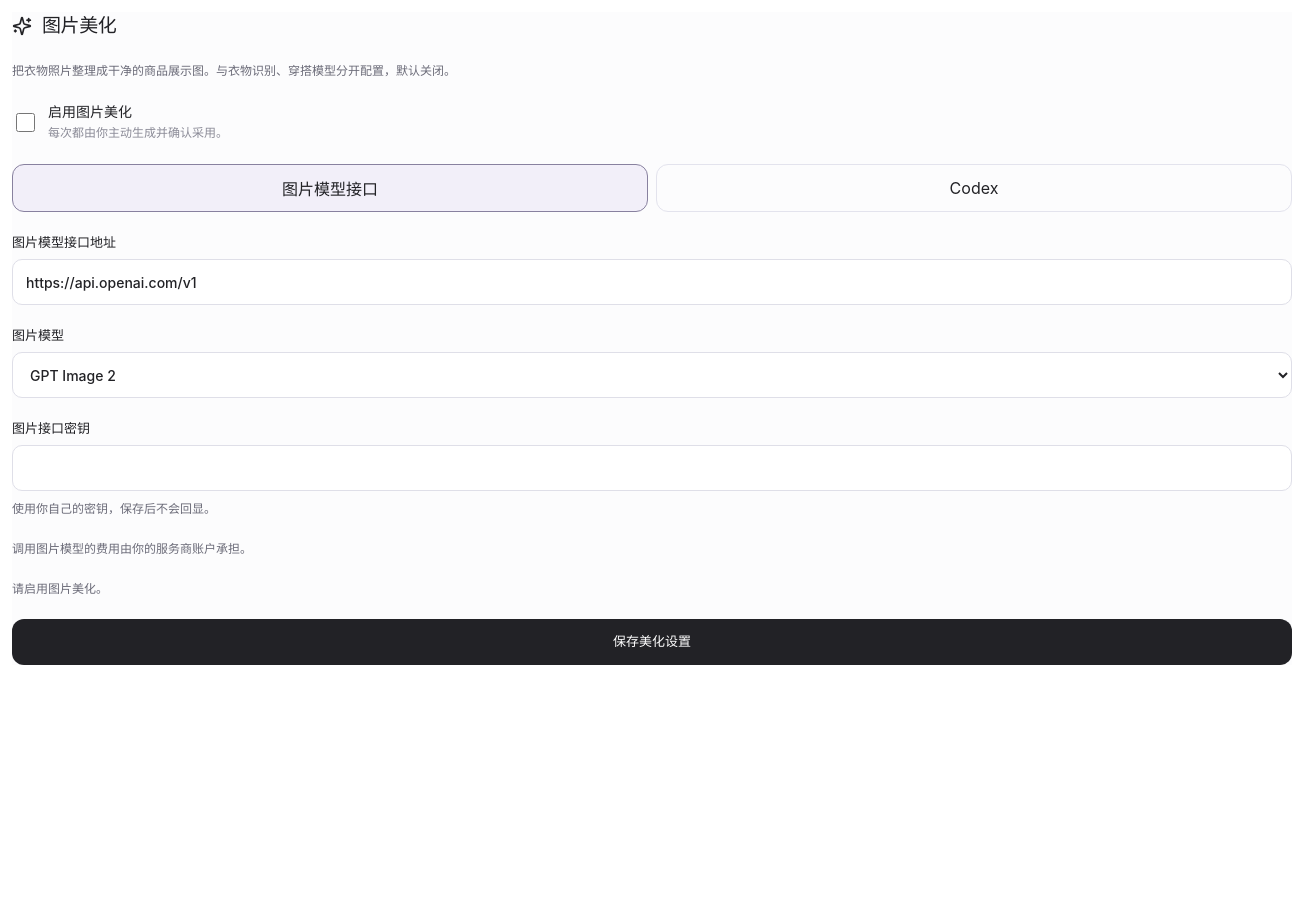
keeps an unsaved image API key available to retry after a settings error
Click the checkbox labelled "启用图片美化 每次都由你主动生成并确认采用。": (26, 122) left=16, top=113, right=35, bottom=132
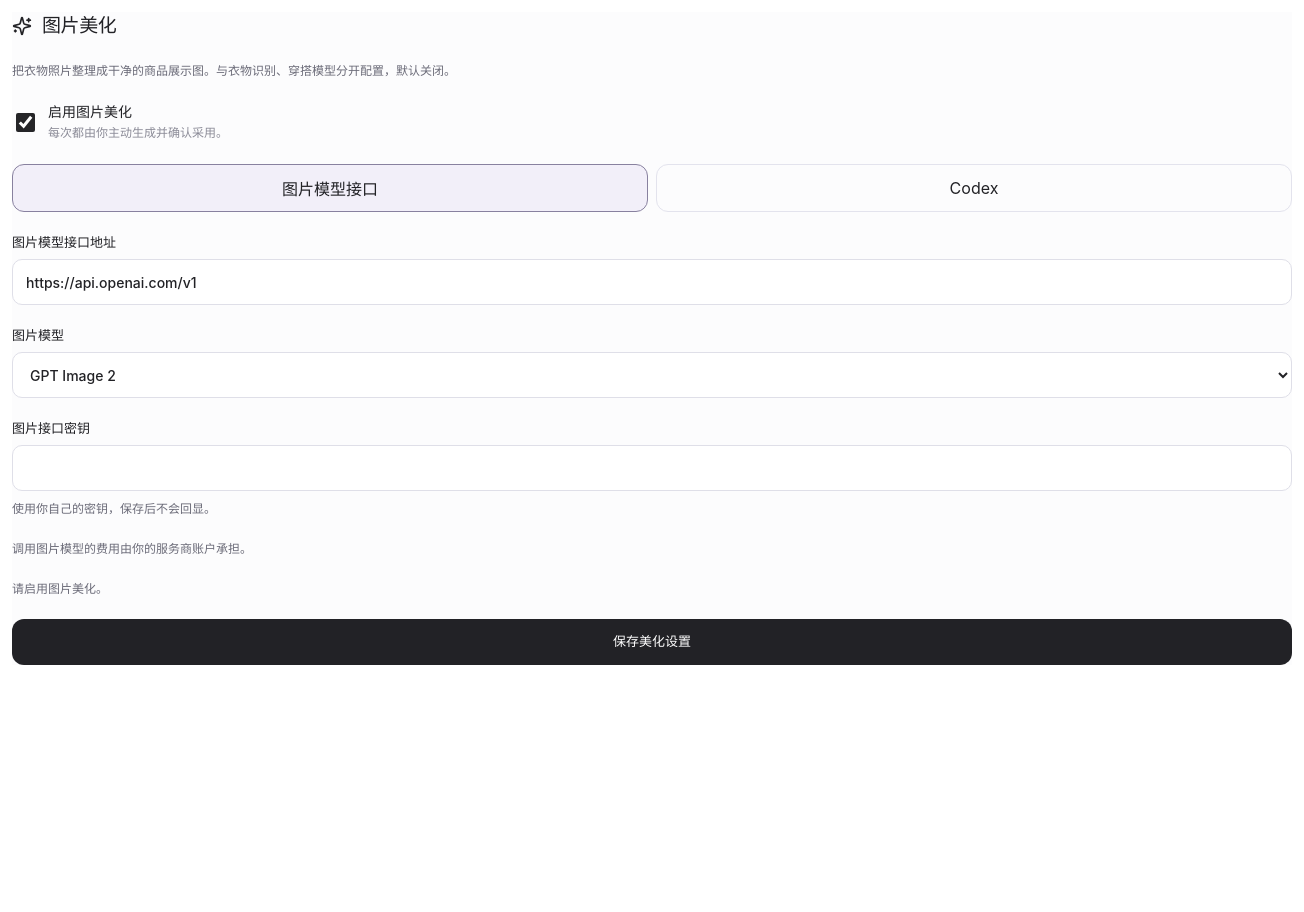
In the password field labelled "图片接口密钥": (652, 468) left=12, top=445, right=1292, bottom=491, type "retry-key"
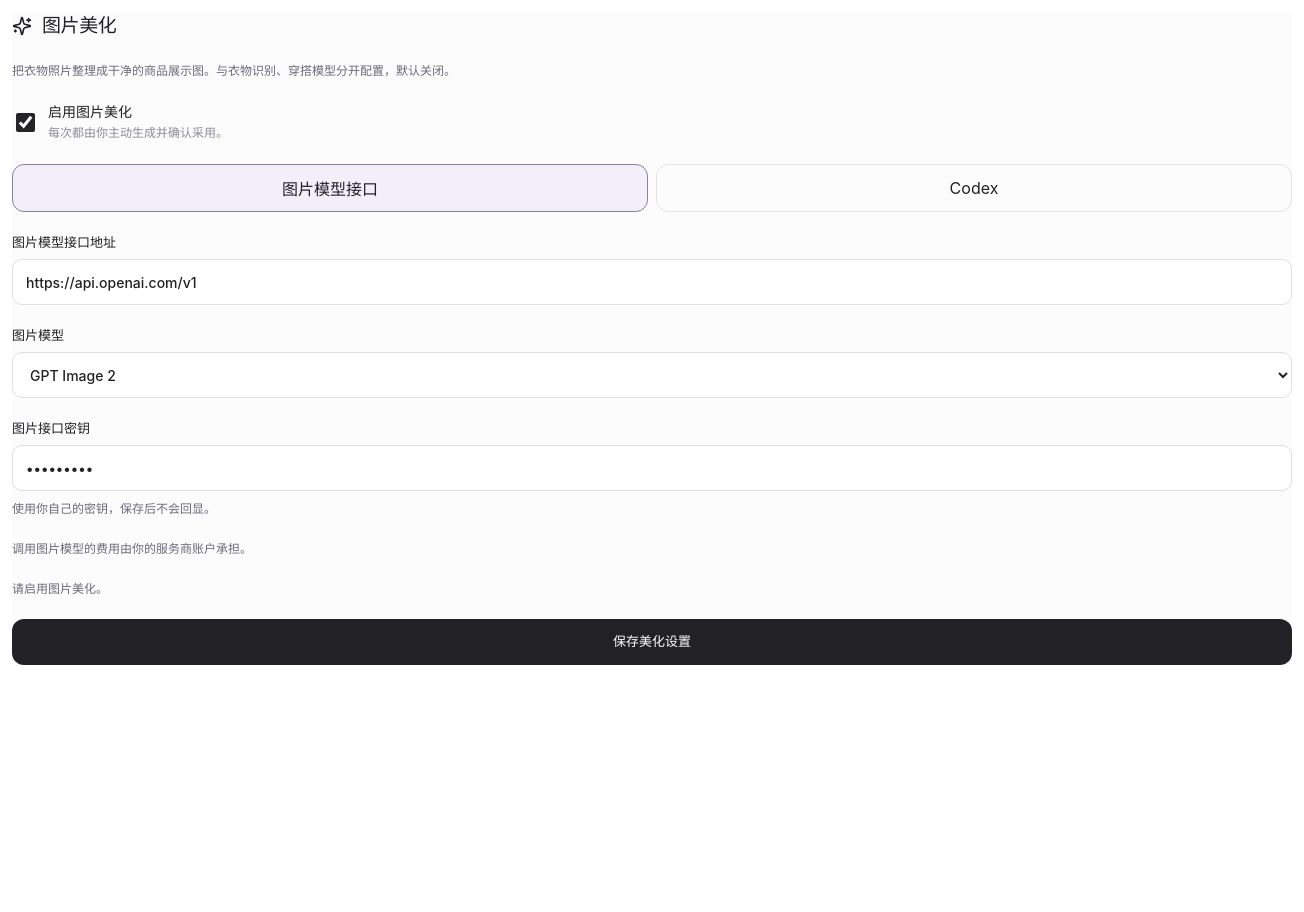
Click the button "保存美化设置": (652, 642) left=12, top=619, right=1292, bottom=665
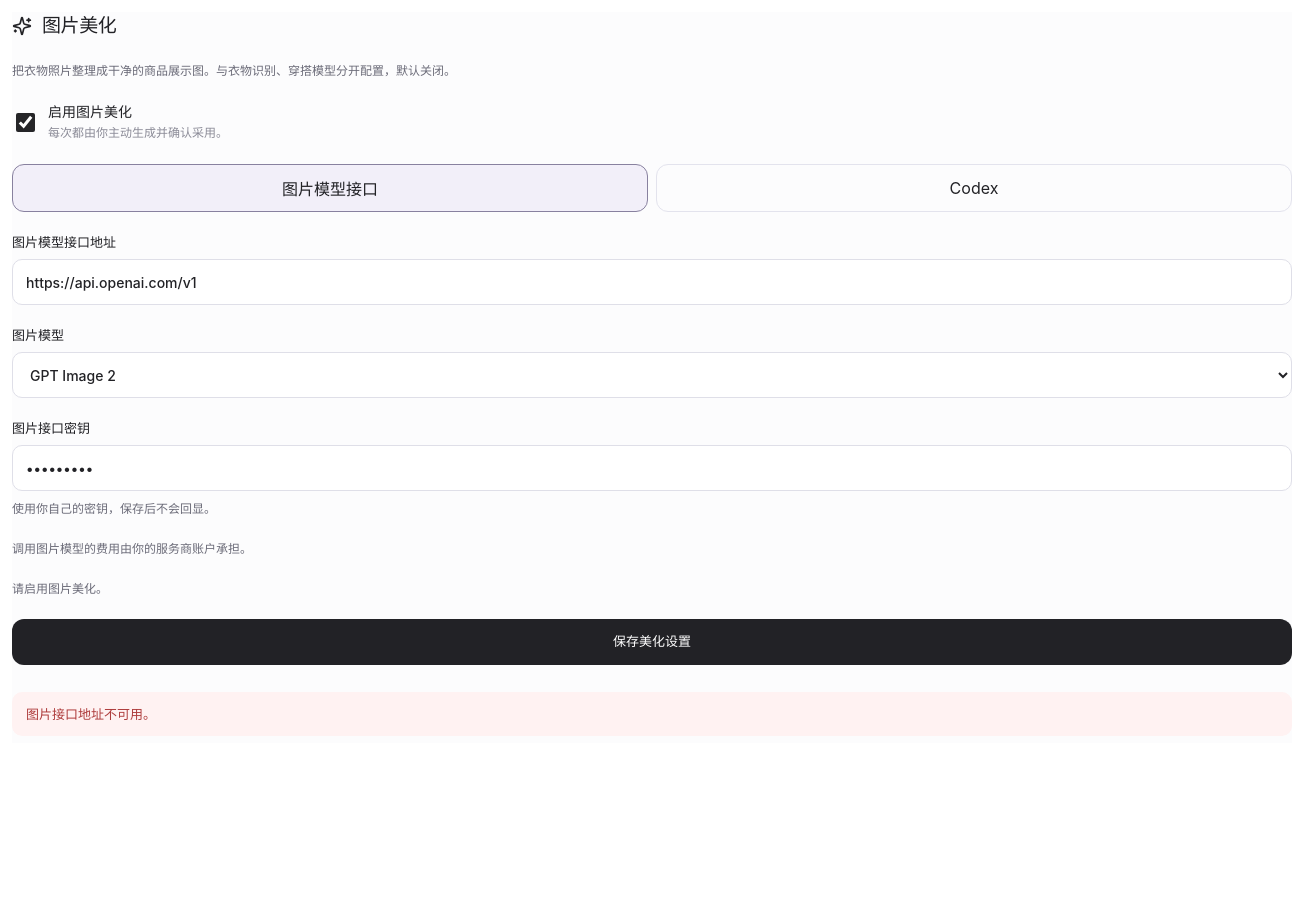
Expected: the message reads "图片接口地址不可用。", left=26, top=706, right=156, bottom=722
